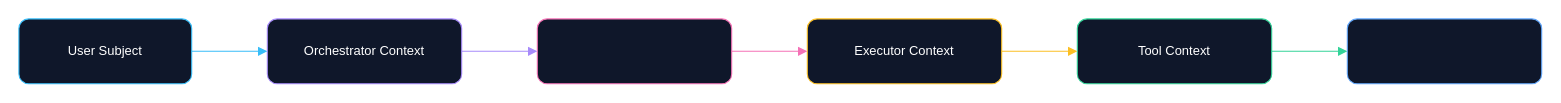
Some shapes in this 1561 by 103 pixel diagram are drawn without their labels. The centre of each missing label's shape, as x and y in pixels:
"Gateway Context" belongs at [634,51].
"Resource Policy" belongs at [1444,51].
